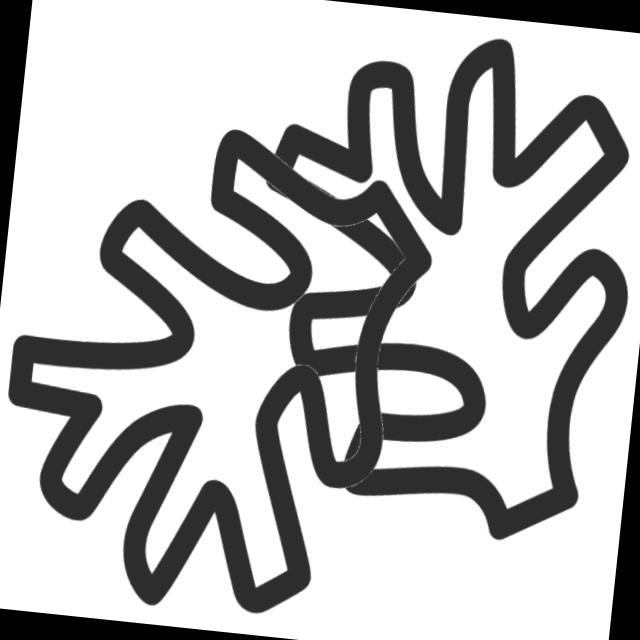coral: (1, 97, 456, 640), (224, 6, 640, 563)
